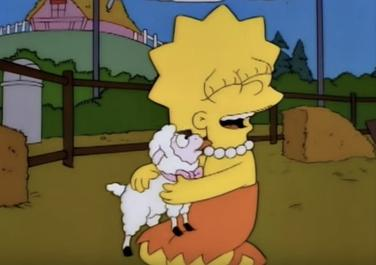Lisa: (107, 3, 294, 265)
